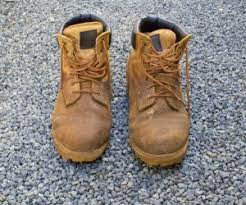Shoes: (50, 19, 197, 174)
